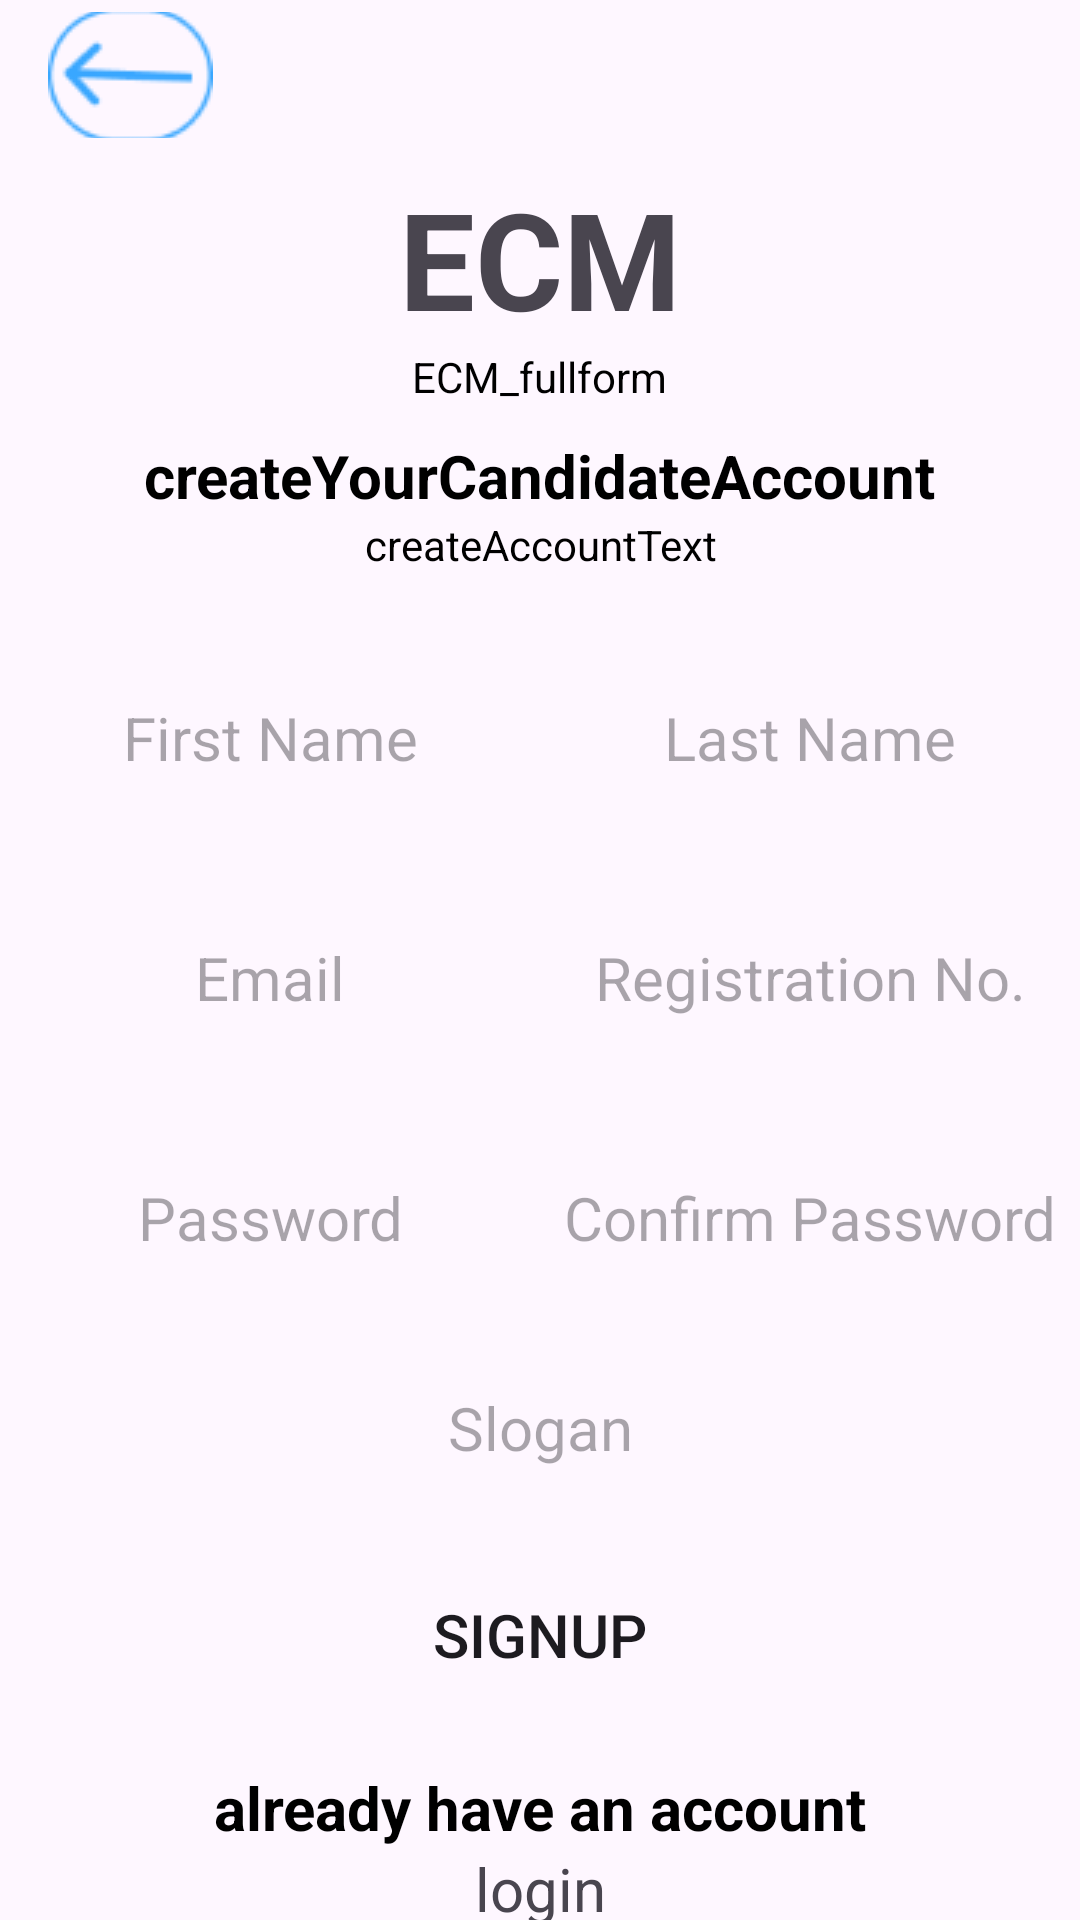

Icon bounding boxes for this 1080px x 1920px phone screenshot, format (x1, y1, x2, y2):
Back: (48, 12, 213, 138)
